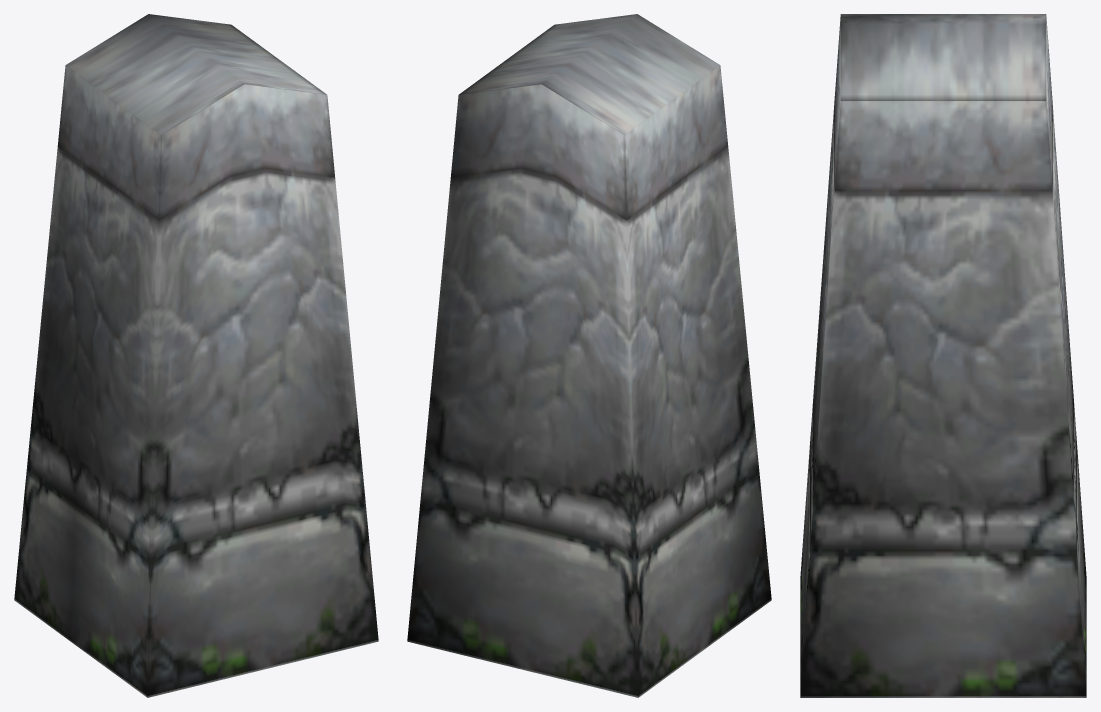
The model's file is elwynnstonefencepost.glb.
The picture shows the model from 3 angles, left to right: view 1: azimuth 30°, elevation 25°; view 2: azimuth 150°, elevation 25°; view 3: azimuth 270°, elevation 25°; orthographic projection. The views are drawn at different scales.
Size of the model in its own units: 0.5573 by 1.32 by 0.5573.
1 material, 1 textured.
